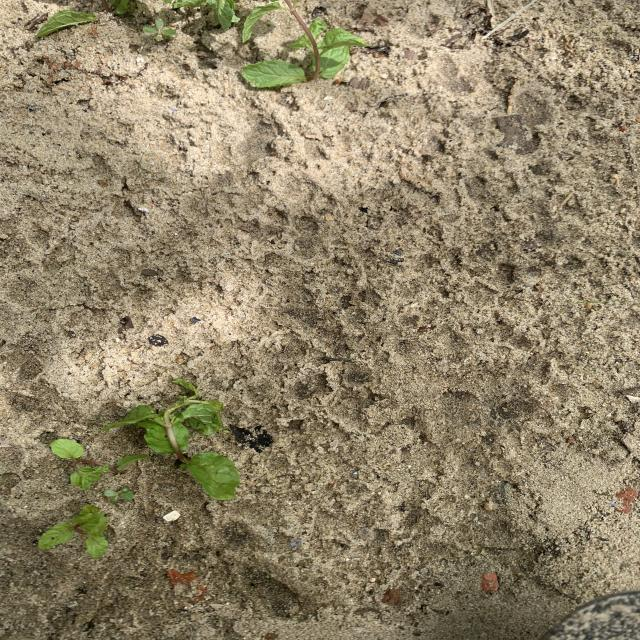crop: (104, 380, 239, 500), (243, 8, 366, 88), (51, 439, 148, 489), (38, 505, 108, 559), (36, 0, 130, 38), (164, 0, 240, 30), (243, 2, 282, 40)
weed: (142, 18, 181, 43), (102, 487, 135, 504)
